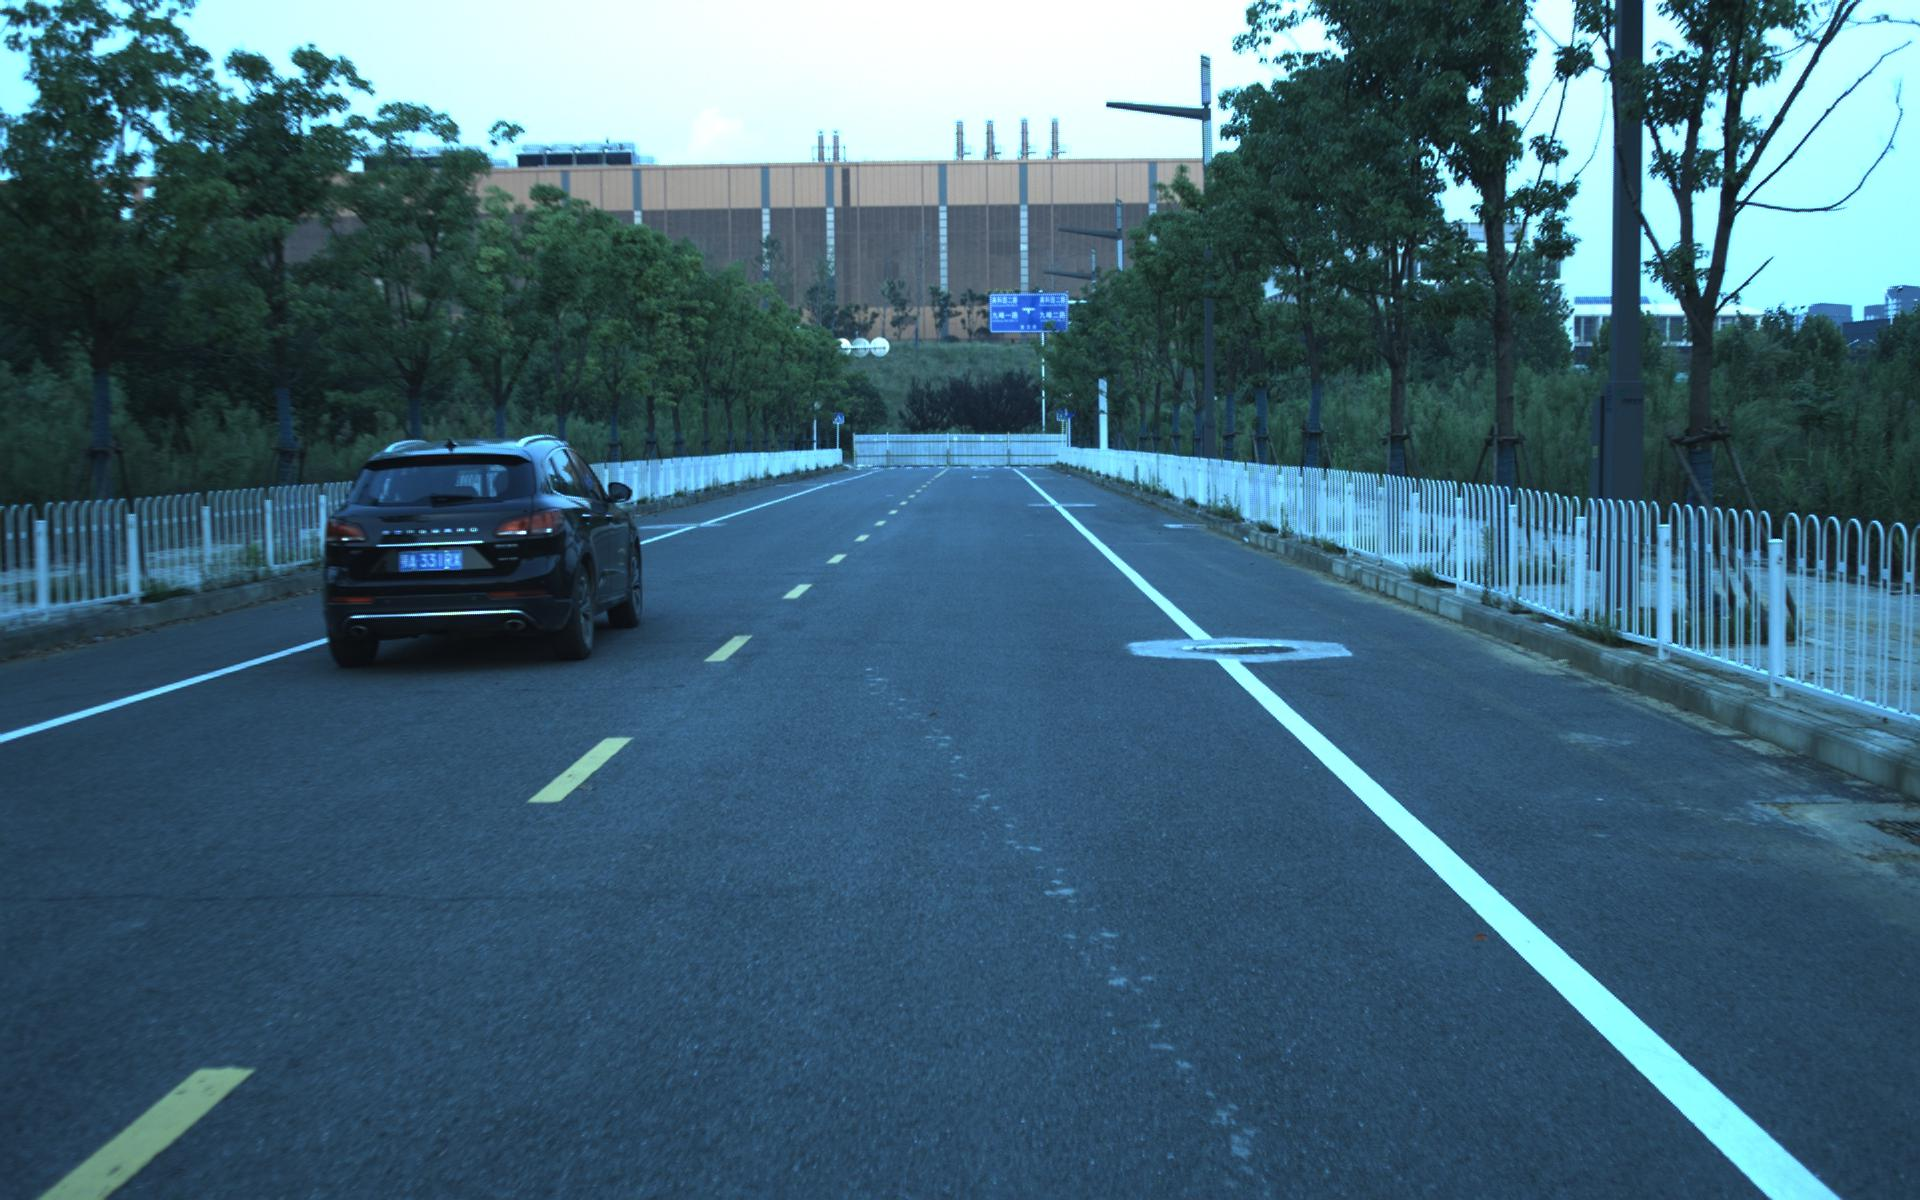Car: (305, 426, 648, 669)
